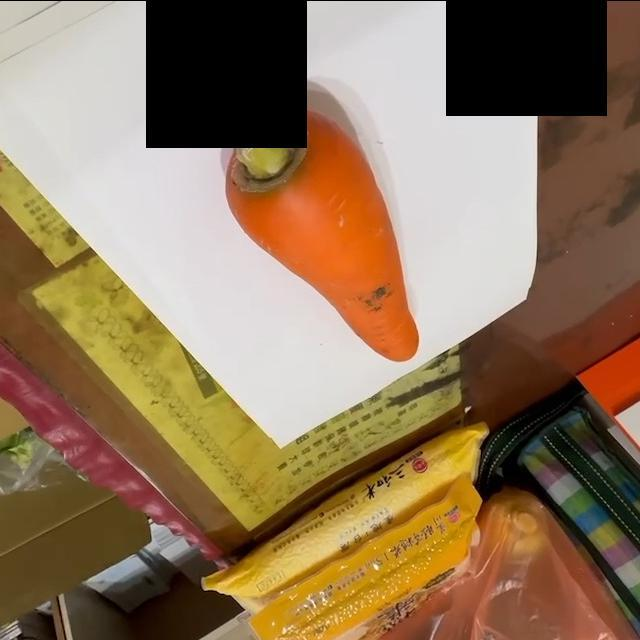carrot: (225, 109, 419, 363)
